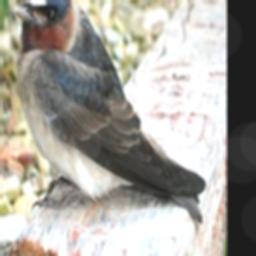Swallow: (8, 0, 209, 228)
